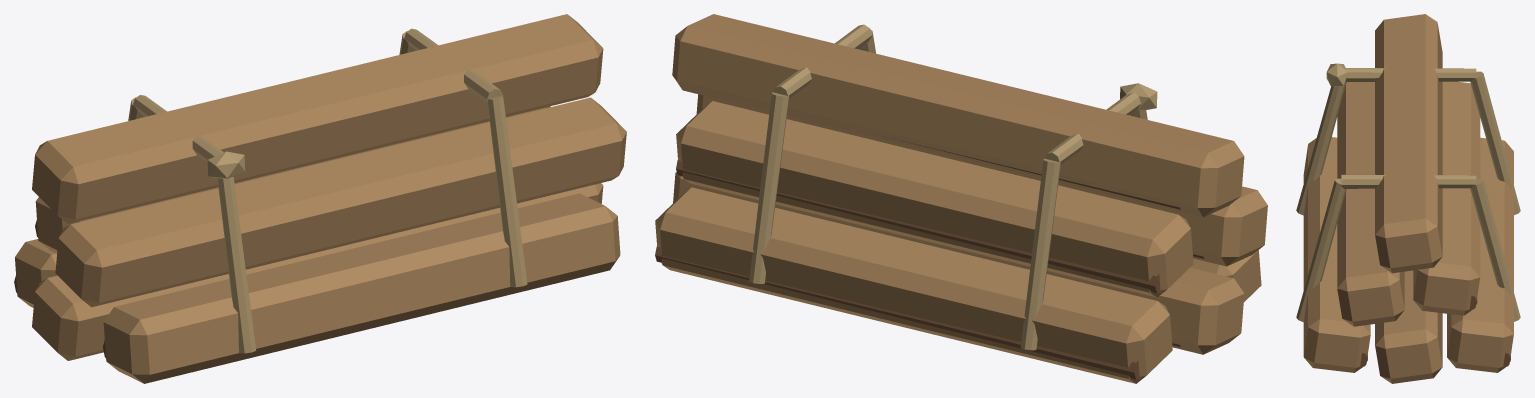
The picture shows the model from 3 angles, left to right: view 1: azimuth 30°, elevation 25°; view 2: azimuth 150°, elevation 25°; view 3: azimuth 270°, elevation 25°; orthographic projection. The views are drawn at different scales.
Visible parts, largest first — view 1: WW-003 Bound split-fuel bundle batched; view 2: WW-003 Bound split-fuel bundle batched; view 3: WW-003 Bound split-fuel bundle batched.
Part boxes in pixels (x1,y1,x2,y2): WW-003 Bound split-fuel bundle batched: [14, 14, 626, 383]; WW-003 Bound split-fuel bundle batched: [655, 14, 1267, 383]; WW-003 Bound split-fuel bundle batched: [1296, 14, 1520, 383].
Bounding box in the file's own units: 1.2 × 0.4335 × 0.5334.
